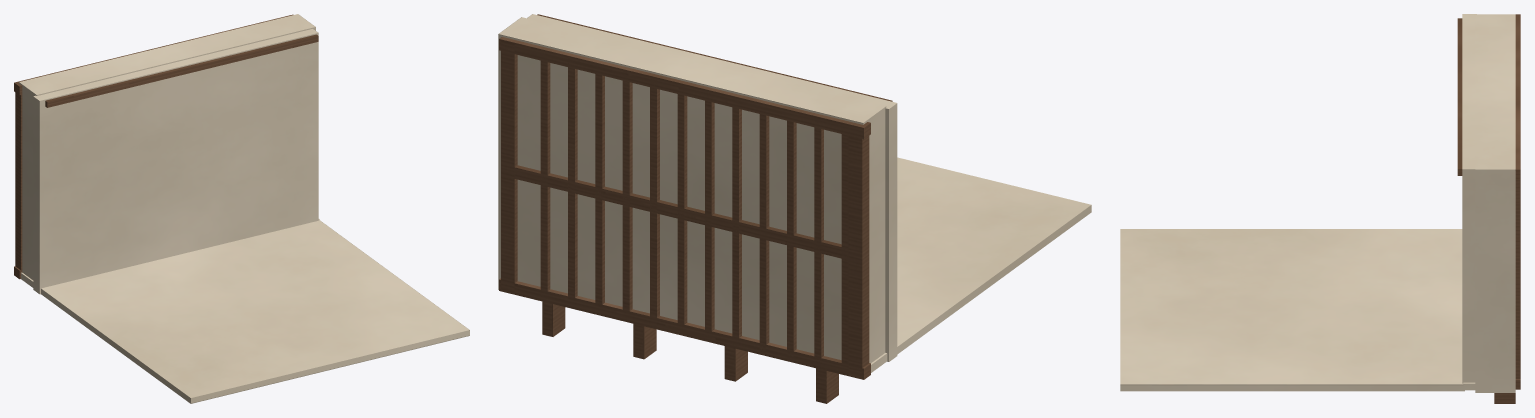
File: med_wall_b_jetty.glb
The picture shows the model from 3 angles, left to right: view 1: azimuth 30°, elevation 25°; view 2: azimuth 150°, elevation 25°; view 3: azimuth 270°, elevation 25°; orthographic projection. The views are drawn at different scales.
Parts seen in each view (by area): view 1: med_wall_b_jetty; view 2: med_wall_b_jetty; view 3: med_wall_b_jetty.
Boxes of the visible parts, x1,y1,x2,y2 form: med_wall_b_jetty: [14, 14, 469, 403]; med_wall_b_jetty: [498, 14, 1091, 403]; med_wall_b_jetty: [1120, 14, 1520, 403].
Size of the model in its own units: 4.04 by 3.04 by 4.36.
Materials: 1 (1 with a texture image).
